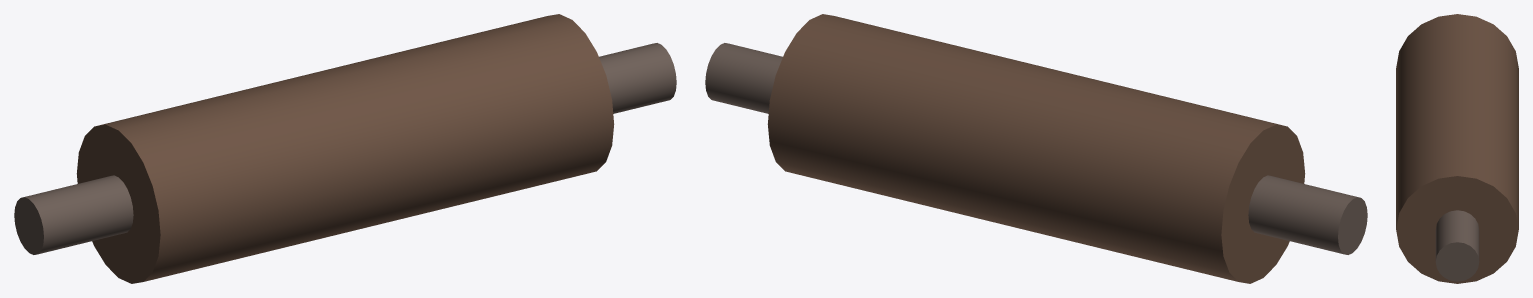
File: RollingPin.fbx
3 views of the same model, side by side, from view 1: azimuth 30°, elevation 25°; view 2: azimuth 150°, elevation 25°; view 3: azimuth 270°, elevation 25° (orthographic). The views are drawn at different scales.
Parts seen in each view (by area): view 1: pCylinder1; view 2: pCylinder1; view 3: pCylinder1.
Boxes of the visible parts, box(x1,y1,x2,y2) form: pCylinder1: box(14, 14, 676, 283); pCylinder1: box(705, 14, 1367, 283); pCylinder1: box(1396, 14, 1518, 283).
Bounding box in the file's own units: 5.01 × 1.12 × 1.15.
